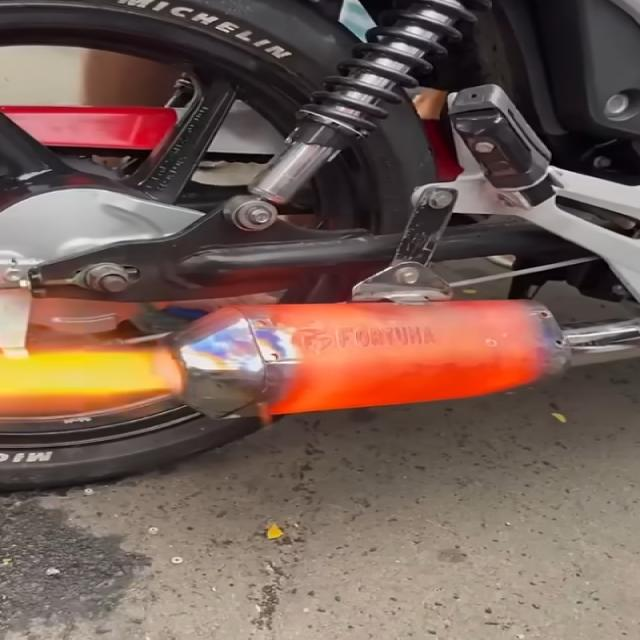fire: (2, 349, 184, 399)
